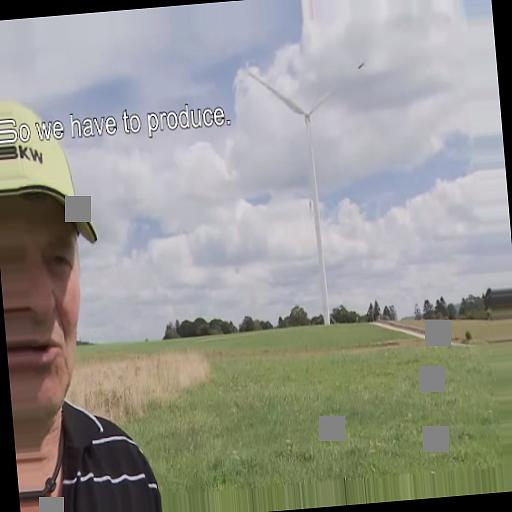wind turbine: (241, 58, 370, 326)
